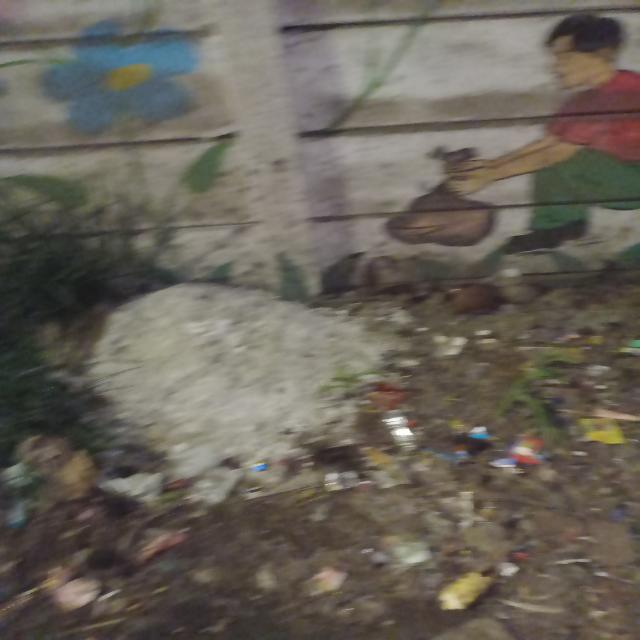garbage: (25, 280, 606, 623)
